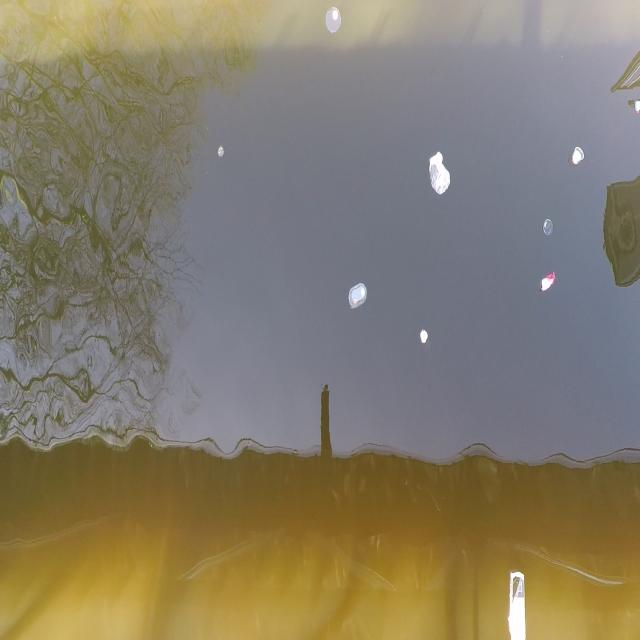Autre plastique: (324, 0, 344, 37), (567, 138, 587, 172), (347, 280, 368, 312), (538, 211, 557, 239)
Sac plastique: (427, 144, 455, 200)
